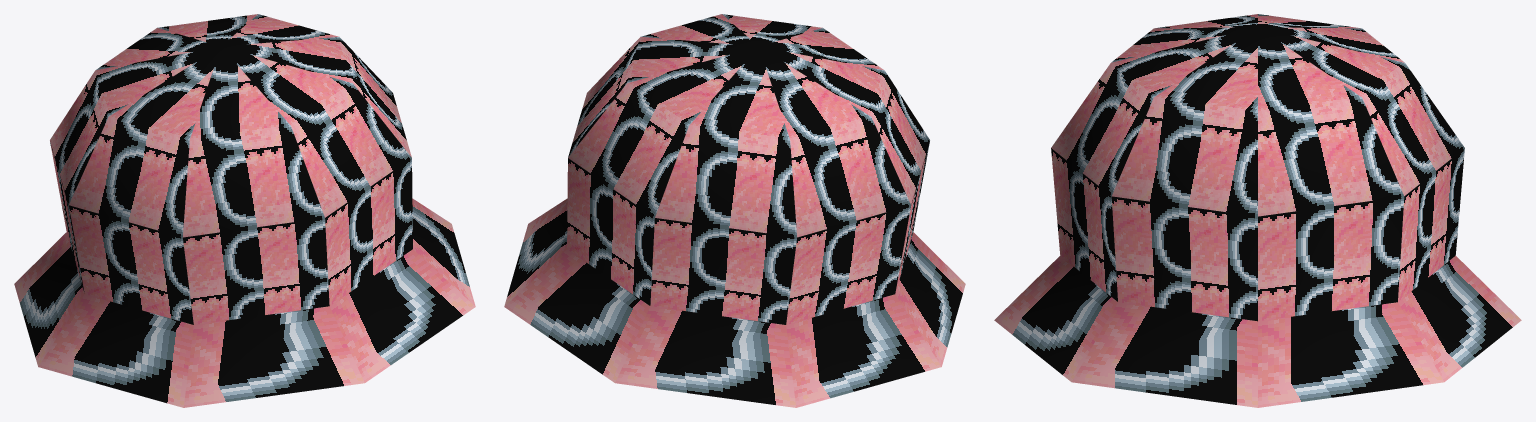
The picture shows the model from 3 angles, left to right: view 1: azimuth 30°, elevation 25°; view 2: azimuth 150°, elevation 25°; view 3: azimuth 270°, elevation 25°; orthographic projection. The views are drawn at different scales.
Parts seen in each view (by area): view 1: ef_674; view 2: ef_674; view 3: ef_674.
Part boxes in pixels (x1,y1,x2,y2): ef_674: (14,14,475,407); ef_674: (504,14,965,407); ef_674: (994,14,1521,407).
Size of the model in its own units: 0.4189 by 0.2671 by 0.4209.
1 material, 1 textured.
